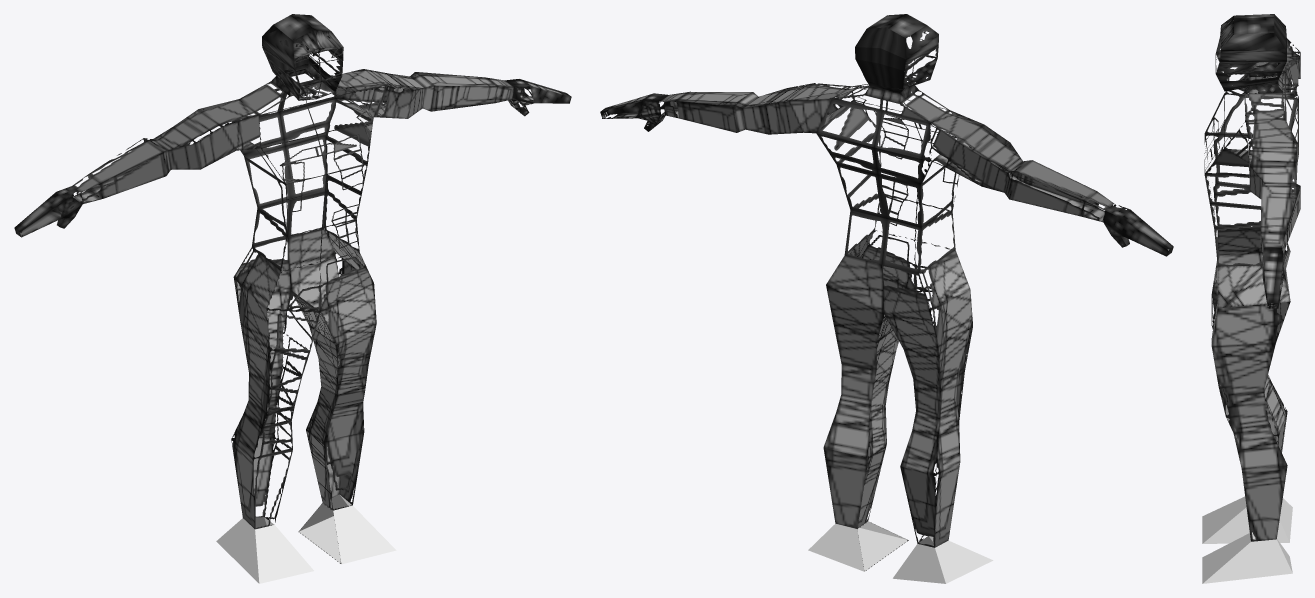
File: amargo.fbx
3 renders of one model, left to right at view 1: azimuth 30°, elevation 25°; view 2: azimuth 150°, elevation 25°; view 3: azimuth 270°, elevation 25°, orthographic. The views are drawn at different scales.
Parts seen in each view (by area): view 1: Amargo; view 2: Amargo; view 3: Amargo.
Part boxes in pixels (x1,y1,x2,y2): Amargo: (14,14,571,583); Amargo: (600,14,1173,583); Amargo: (1202,14,1300,583).
Bounding box in the file's own units: 391 × 357 × 59.49.
